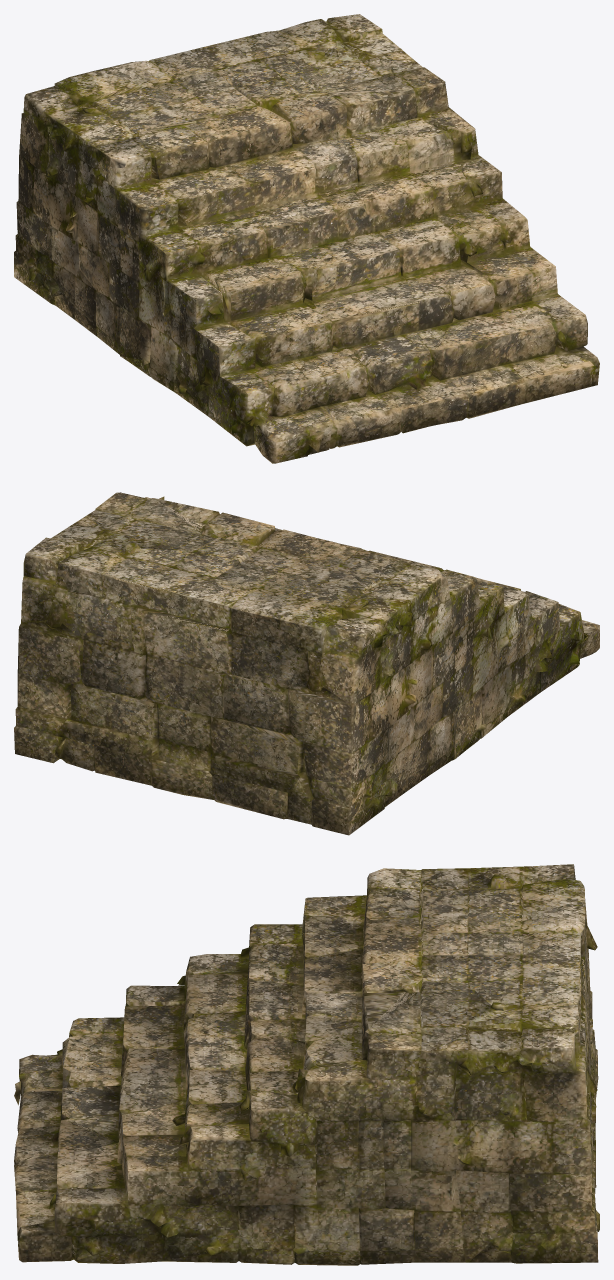
The model's file is ARQ_EscalinataMaya_01_LOD1.fbx.
3 renders of one model, top to bottom at view 1: azimuth 30°, elevation 25°; view 2: azimuth 150°, elevation 25°; view 3: azimuth 270°, elevation 25°, orthographic. The views are drawn at different scales.
Visible parts, largest first — view 1: ARQ_EscalinataMaya_01_Mesh000; view 2: ARQ_EscalinataMaya_01_Mesh000; view 3: ARQ_EscalinataMaya_01_Mesh000.
Boxes of the visible parts, box(x1,y1,x2,y2) form: ARQ_EscalinataMaya_01_Mesh000: box(14, 14, 599, 463); ARQ_EscalinataMaya_01_Mesh000: box(14, 492, 599, 835); ARQ_EscalinataMaya_01_Mesh000: box(14, 864, 599, 1265).
Bounding box in the file's own units: 3 × 1.62 × 3.84.
